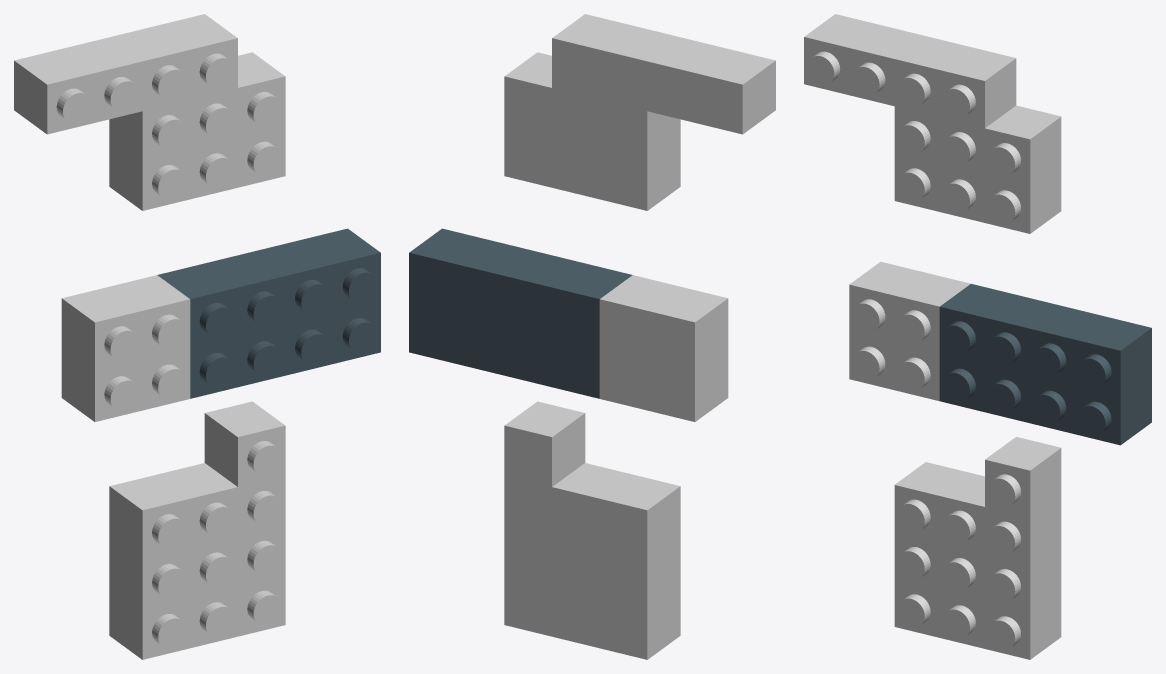
Rendered from current.glb.
The picture shows the model from 3 angles, left to right: view 1: azimuth 30°, elevation 25°; view 2: azimuth 150°, elevation 25°; view 3: azimuth 330°, elevation 25°; orthographic projection. The views are drawn at different scales.
Parts seen in each view (by area): view 1: world; view 2: world; view 3: world.
Part boxes in pixels (x1,y1,x2,y2): world: (14, 14, 380, 659); world: (409, 14, 775, 659); world: (804, 14, 1151, 659).
Bounding box in the file's own units: 56 × 96 × 11.4.
